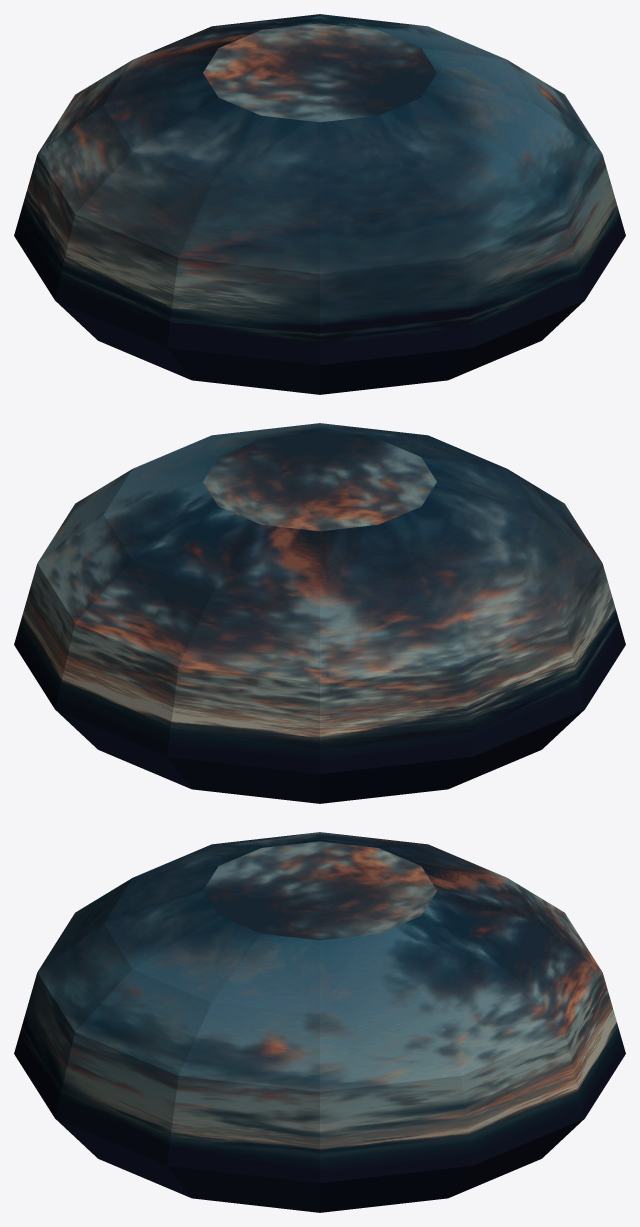
File: recovered_map_mp51.glb
3 renders of one model, top to bottom at view 1: azimuth 30°, elevation 25°; view 2: azimuth 150°, elevation 25°; view 3: azimuth 270°, elevation 25°, orthographic.
Parts seen in each view (by area): view 1: S_gen_cloud_n_sun_256x256; view 2: S_gen_cloud_n_sun_256x256; view 3: S_gen_cloud_n_sun_256x256.
Part boxes in pixels (x1,y1,x2,y2): S_gen_cloud_n_sun_256x256: (14,14,625,394); S_gen_cloud_n_sun_256x256: (14,423,625,803); S_gen_cloud_n_sun_256x256: (14,832,625,1212).
Size of what is drawn, in the model's own units: 299 by 115 by 299.
49 materials, 49 textured.
